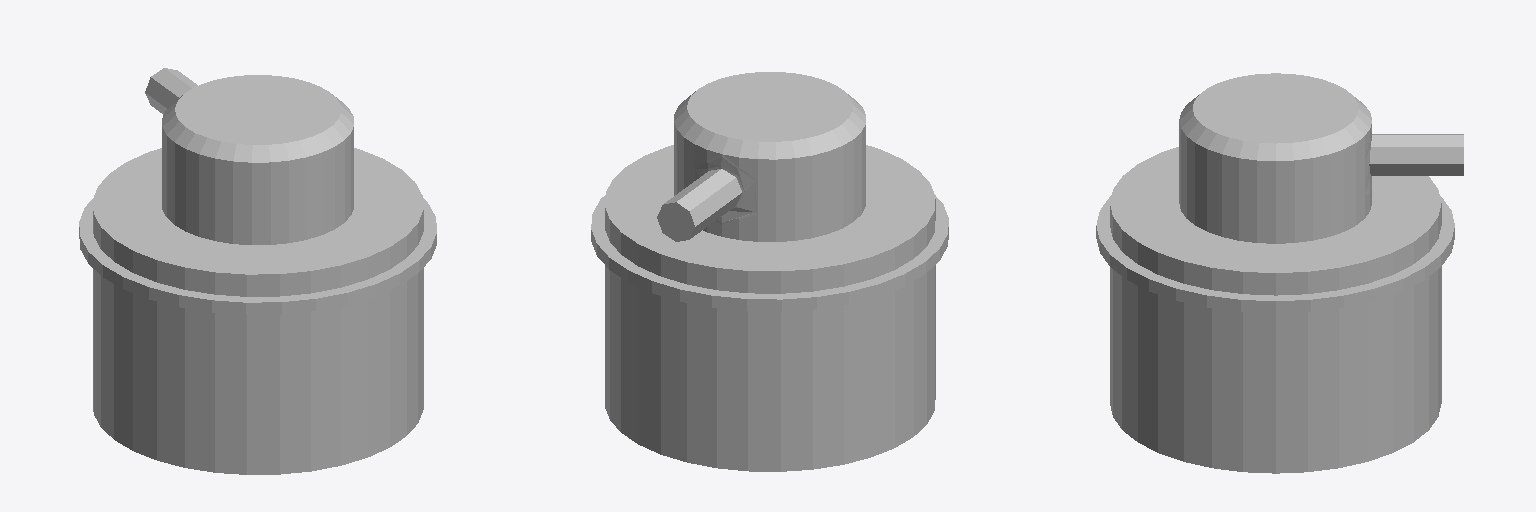
File: simple_turret.obj
3 views of the same model, side by side, from view 1: azimuth 30°, elevation 25°; view 2: azimuth 150°, elevation 25°; view 3: azimuth 270°, elevation 25° (orthographic).
Parts seen in each view (by area): view 1: Cylinder; view 2: Cylinder; view 3: Cylinder.
Boxes of the visible parts, <box> form: Cylinder: <box>79,68,436,474</box>; Cylinder: <box>591,72,948,471</box>; Cylinder: <box>1096,73,1463,473</box>.
Bounding box in the file's own units: 1.62 × 1.47 × 1.66.